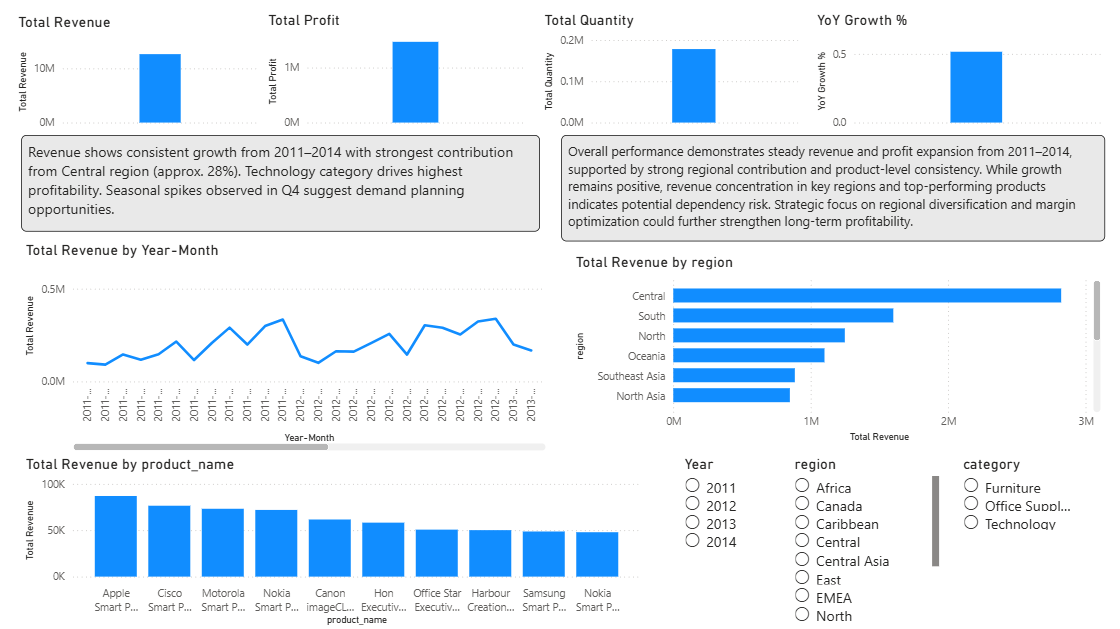

This screenshot's page, from the dashboard's own definition file:
{"tool":"powerbi","page":{"name":"Executive Overview","canvas":[1280,720],"ordinal":0},"visuals":[{"type":"clusteredColumnChart","fields":{"Y":["SuperStoreOrders.Total Revenue"]},"box":[15.7,14.3,285.7,140],"z":0},{"type":"clusteredColumnChart","fields":{"Y":["SuperStoreOrders.Total Profit"]},"box":[301.4,12.9,304.3,141.4],"z":1000},{"type":"clusteredColumnChart","fields":{"Y":["SuperStoreOrders.Total Quantity"]},"box":[617.1,12.9,300,141.4],"z":2000},{"type":"barChart","fields":{"Y":["SuperStoreOrders.Total Revenue"],"Category":["SuperStoreOrders.region"]},"box":[652.9,288.6,610,221.4],"z":3000},{"type":"clusteredColumnChart","fields":{"Y":["SuperStoreOrders.YoY Growth %"]},"box":[928.6,12.9,334.3,141.4],"z":4000},{"type":"lineClusteredColumnComboChart","fields":{"Category":["SuperStoreOrders.product_name"],"Y":["SuperStoreOrders.Total Revenue"]},"box":[24.3,520,712.9,200],"z":5000},{"type":"listSlicer","fields":{"Values":["Date Table.Year"]},"box":[777.1,520,90,200],"z":6000},{"type":"listSlicer","fields":{"Values":["SuperStoreOrders.category"]},"box":[1096.4,520.1,137.2,200.3],"z":7000},{"type":"listSlicer","fields":{"Values":["SuperStoreOrders.region"]},"box":[902.9,520,175.7,200],"z":8000},{"type":"textbox","box":[24.3,154.3,592.9,110],"z":9000},{"type":"lineChart","fields":{"Y":["SuperStoreOrders.Total Revenue"],"Category":["Date Table.Year-Month"]},"box":[24.3,275.7,604.3,244.3],"z":10000},{"type":"textbox","box":[641.4,154.3,621.4,121.4],"z":10001}]}

Visuals, with their boxes in screenshot pixels (x1, y1, x2, y2), scaled from the page's 1280x720 canvas onto the 1120x629 screenshot:
clusteredColumnChart - SuperStoreOrders.Total Revenue: (14, 12, 264, 135)
clusteredColumnChart - SuperStoreOrders.Total Profit: (264, 11, 530, 135)
clusteredColumnChart - SuperStoreOrders.Total Quantity: (540, 11, 802, 135)
barChart - SuperStoreOrders.Total Revenue x SuperStoreOrders.region: (571, 252, 1105, 446)
clusteredColumnChart - SuperStoreOrders.YoY Growth %: (813, 11, 1105, 135)
lineClusteredColumnComboChart - SuperStoreOrders.product_name x SuperStoreOrders.Total Revenue: (21, 454, 645, 628)
listSlicer - Date Table.Year: (680, 454, 759, 628)
listSlicer - SuperStoreOrders.category: (959, 454, 1079, 628)
listSlicer - SuperStoreOrders.region: (790, 454, 944, 628)
textbox: (21, 135, 540, 231)
lineChart - SuperStoreOrders.Total Revenue x Date Table.Year-Month: (21, 241, 550, 454)
textbox: (561, 135, 1105, 241)
